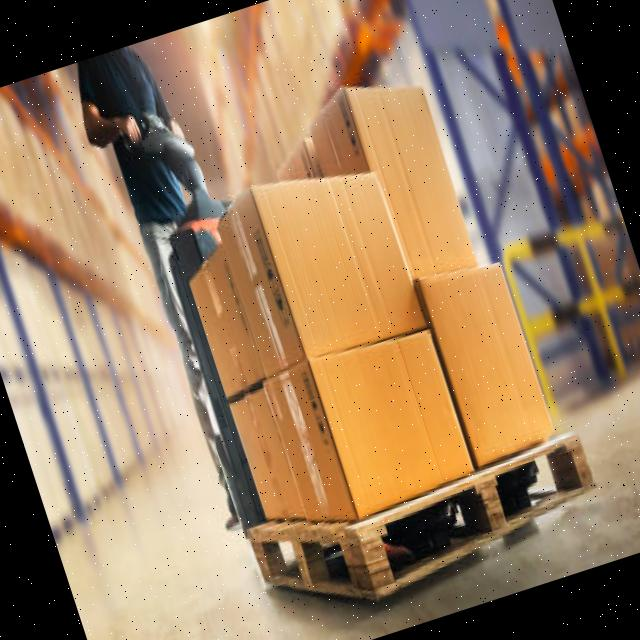Wooden-Pallets: (251, 424, 601, 602)
